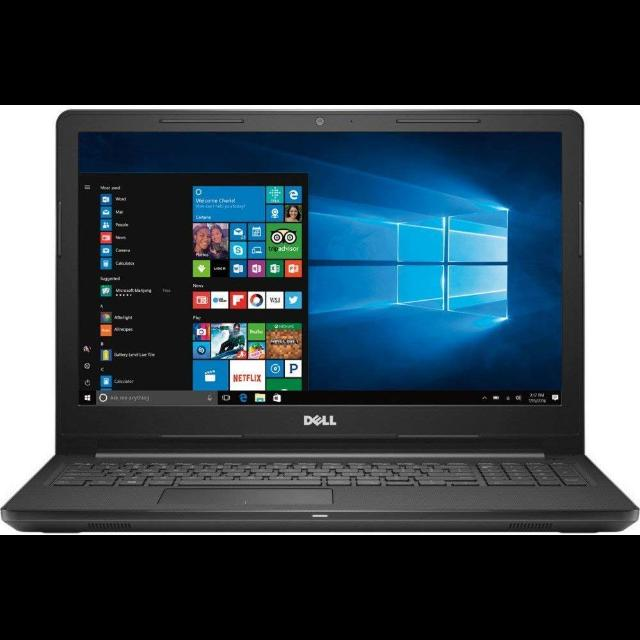Laptop: (4, 109, 636, 532)
